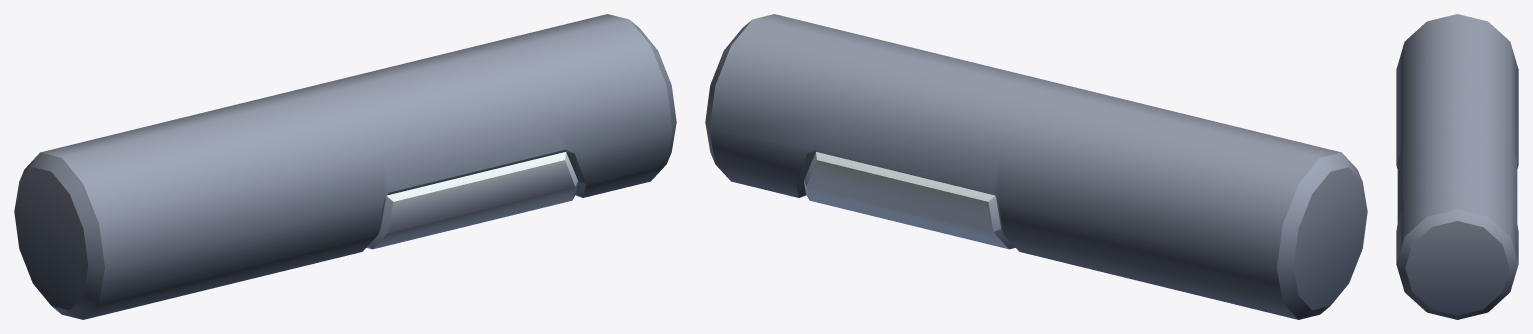
The model's file is Body4.FBX.
3 views of the same model, side by side, from view 1: azimuth 30°, elevation 25°; view 2: azimuth 150°, elevation 25°; view 3: azimuth 270°, elevation 25° (orthographic). The views are drawn at different scales.
Parts seen in each view (by area): view 1: Cylinder005; view 2: Cylinder005; view 3: Cylinder005.
Boxes of the visible parts, x1=… form: Cylinder005: x1=14, y1=14, x2=676, y2=319; Cylinder005: x1=705, y1=14, x2=1367, y2=319; Cylinder005: x1=1396, y1=14, x2=1518, y2=319.
Size of the model in its own units: 23.91 by 6.09 by 6.09.
